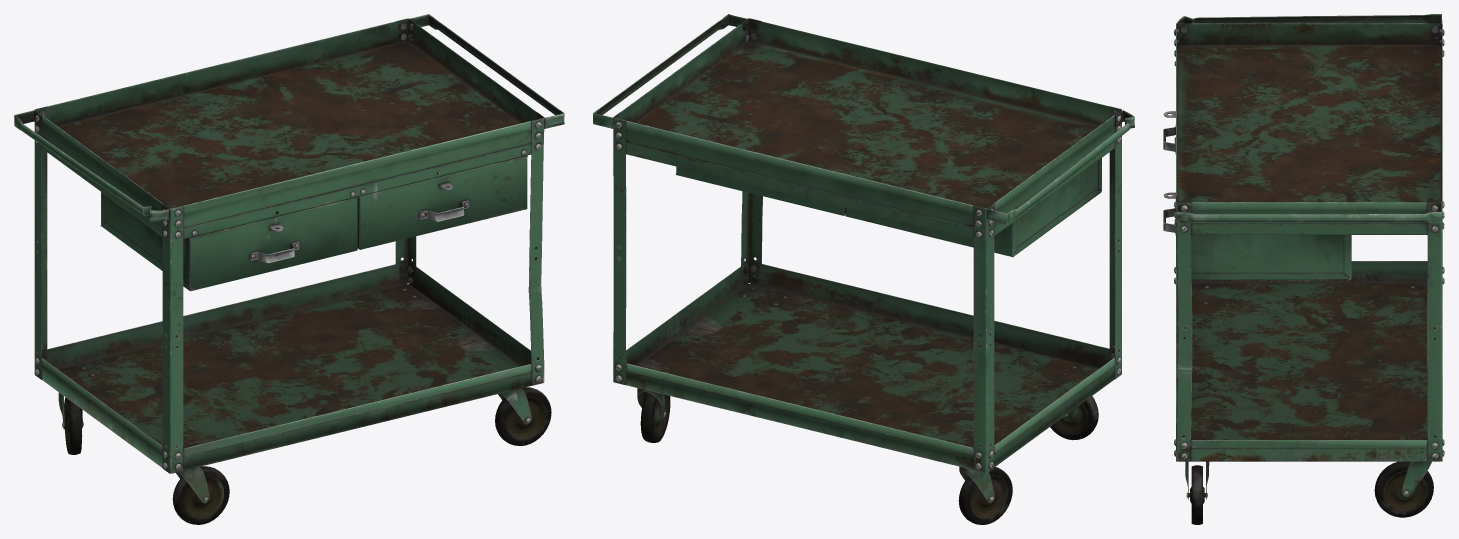
File: tool_cart.glb
The picture shows the model from 3 angles, left to right: view 1: azimuth 30°, elevation 25°; view 2: azimuth 150°, elevation 25°; view 3: azimuth 270°, elevation 25°; orthographic projection. The views are drawn at different scales.
Parts seen in each view (by area): view 1: tool_cart; view 2: tool_cart; view 3: tool_cart.
Part boxes in pixels (<box>): tool_cart: <box>14,14,564,524</box>; tool_cart: <box>593,14,1134,524</box>; tool_cart: <box>1163,14,1444,524</box>.
Size of the model in its own units: 1.27 by 0.9647 by 0.7537.
1 material, 1 textured.
